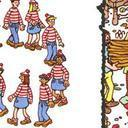waldo: (43, 11, 59, 30)
